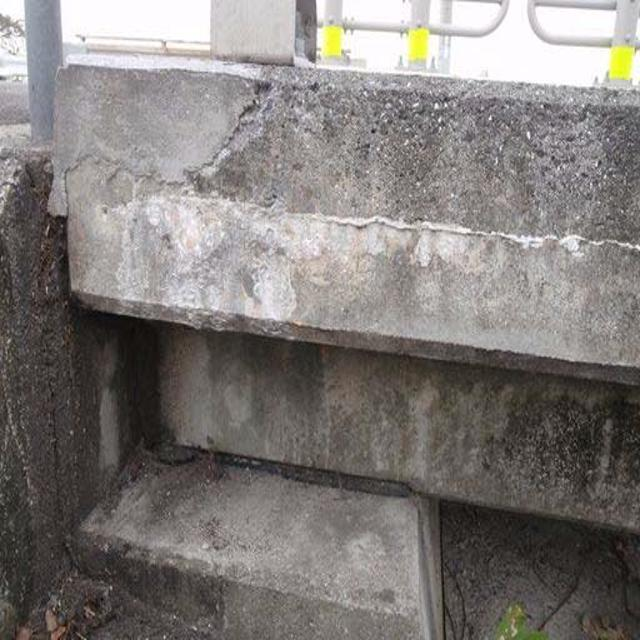freelime: (114, 177, 314, 333)
